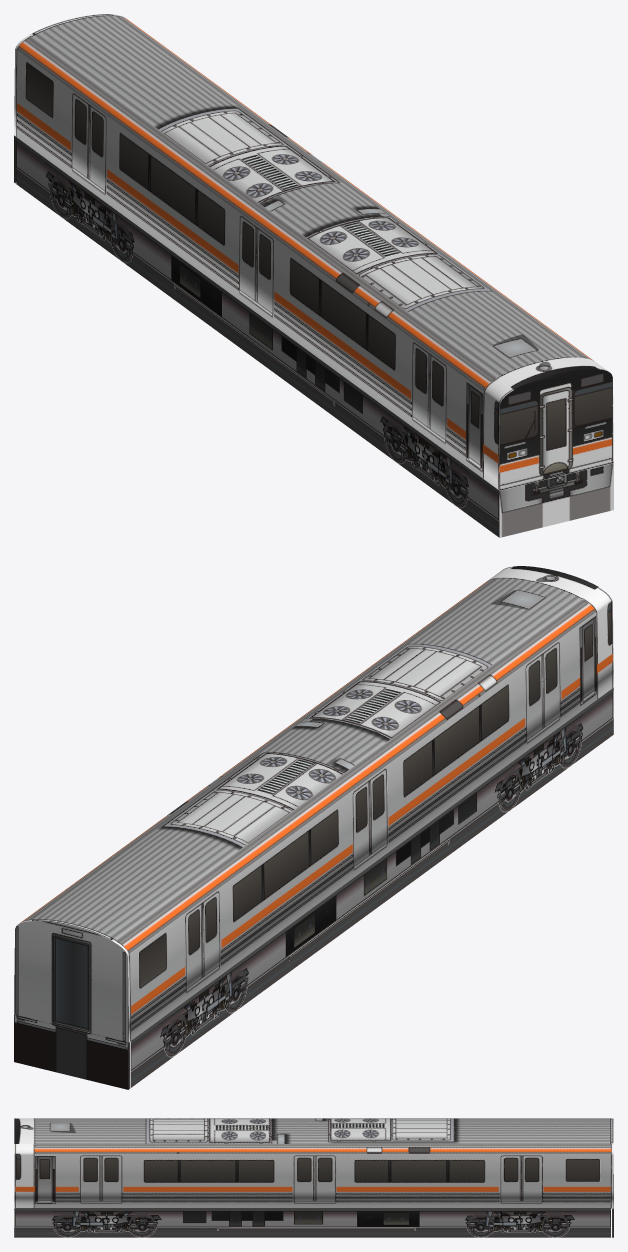
Rendered from car1.glb.
3 renders of one model, top to bottom at view 1: azimuth 30°, elevation 25°; view 2: azimuth 150°, elevation 25°; view 3: azimuth 270°, elevation 25°, orthographic. The views are drawn at different scales.
Visible parts, largest first — view 1: jr-tokai-kiha75-car1; view 2: jr-tokai-kiha75-car1; view 3: jr-tokai-kiha75-car1.
Boxes of the visible parts, x1,y1,x2,y2 form: jr-tokai-kiha75-car1: (14, 14, 613, 537); jr-tokai-kiha75-car1: (14, 566, 613, 1089); jr-tokai-kiha75-car1: (14, 1118, 613, 1237).
Size of the model in its own units: 2.9 by 3.63 by 21.33.
9 materials, 8 textured.
